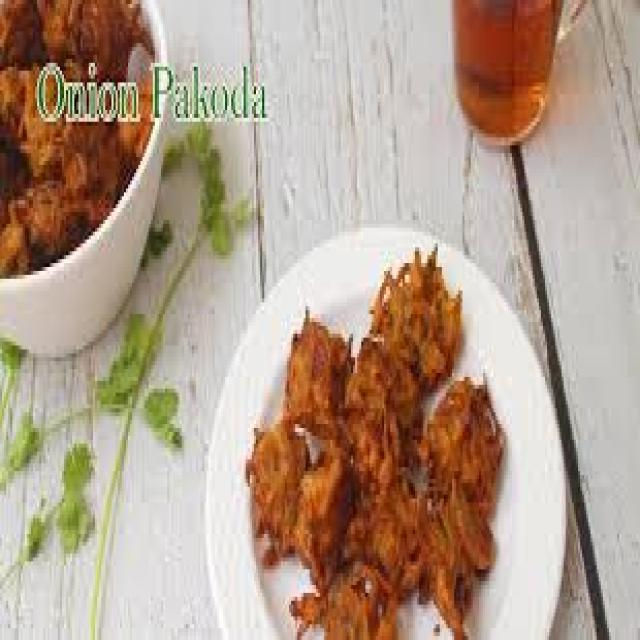BAJI: (247, 266, 508, 636), (0, 0, 158, 274)
